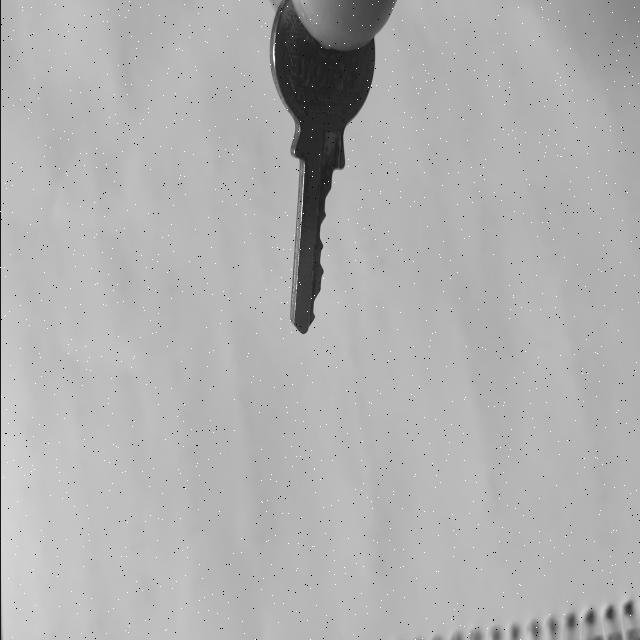key: (269, 0, 374, 333)
